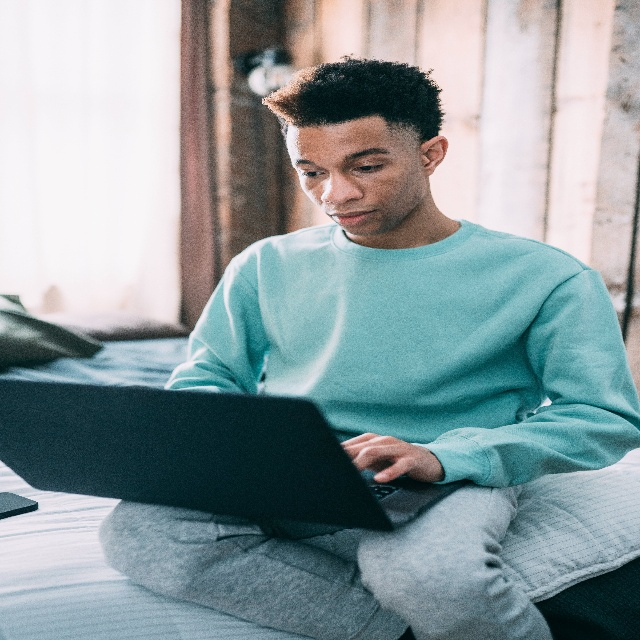Sin_guantes: (338, 429, 444, 494)
